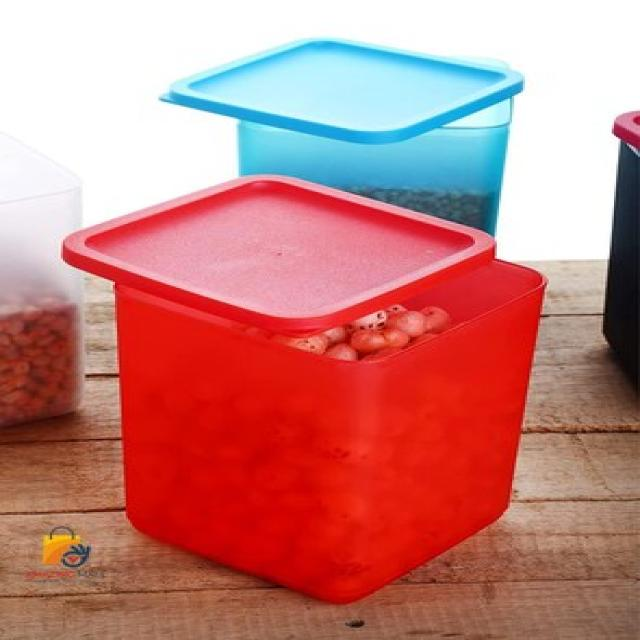plastic_box: (53, 152, 583, 623), (159, 26, 579, 238)
